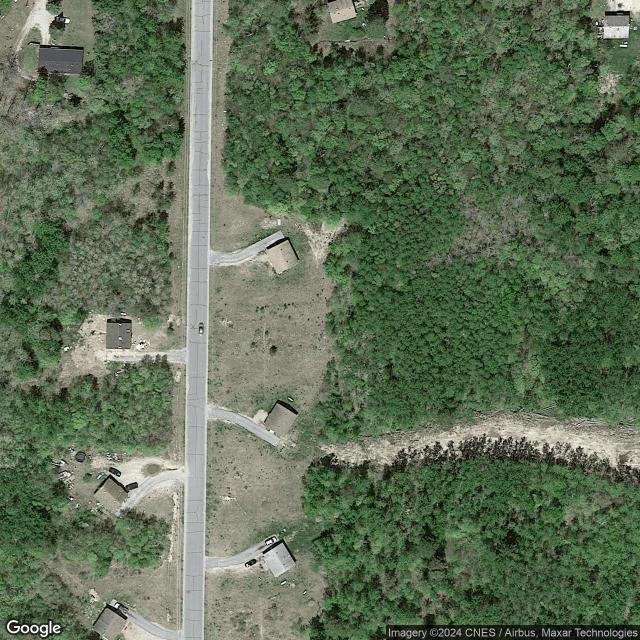Propane: (95, 472, 104, 481), (287, 396, 295, 403), (119, 311, 128, 317), (280, 579, 287, 586), (619, 44, 628, 48), (302, 589, 308, 595)
